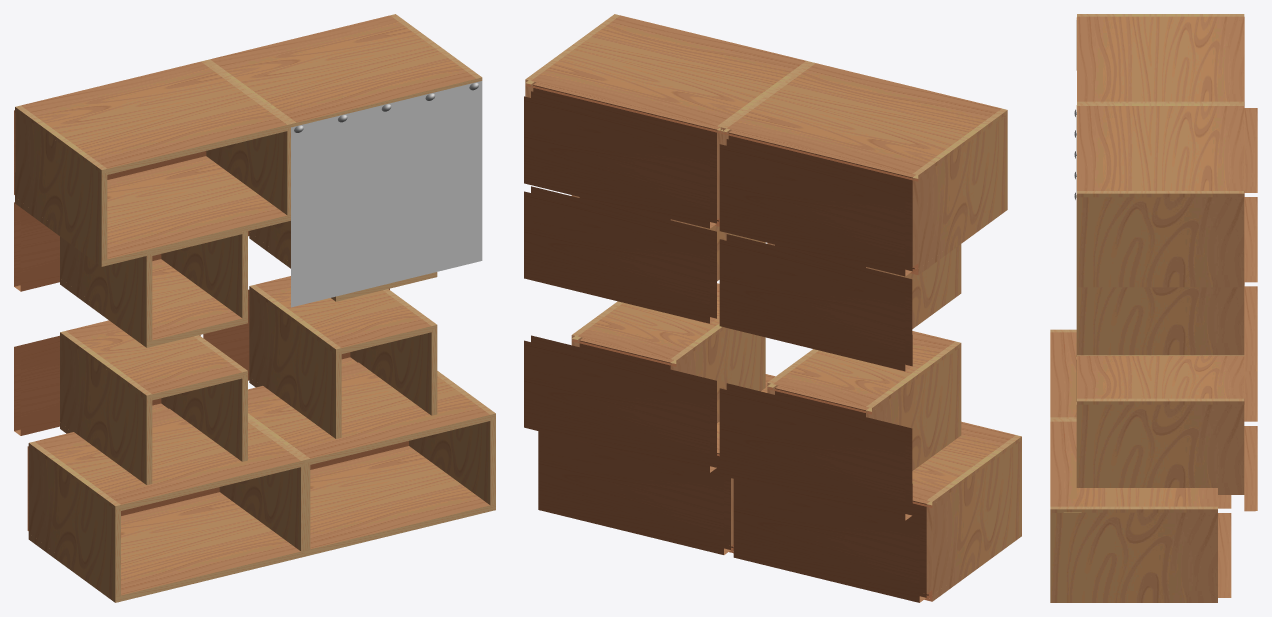
The model's file is layout_poster_0_shape_12c.fbx.
3 renders of one model, left to right at view 1: azimuth 30°, elevation 25°; view 2: azimuth 150°, elevation 25°; view 3: azimuth 270°, elevation 25°, orthographic. The views are drawn at different scales.
Parts seen in each view (by area): view 1: Mesh-Poster-Large01, Shelf-TM-00 7, Shelf-TM-00 3, Shelf-BM-00, Shelf-BM-00 4, Shelf-BM-00 7, Shelf-TM-00 4, Shelf-TM-00, Shelf-CL-01 4, Shelf-CL-01 7, Shelf-CL-01 1, Shelf-CL-01 5 (+21 smaller); view 2: Shelf-Back-00 (1) 5, Shelf-Back-00 (1) 7, Shelf-Back-00 (1) 6, Shelf-Back-00 (1) 3, Shelf-Back-00 (1) 1, Shelf-Back-00 (1) 2, Shelf-TM-00 3, Shelf-TM-00 7, Shelf-Back-00 (1) 4, Shelf-Back-00 (1), Shelf-CL-01 4, Shelf-CL-01 7 (+14 smaller); view 3: Shelf-TM-00 7, Shelf-CR-01 3, Shelf-TM-00 3, Shelf-CR-01, Shelf-CR-01 1, Shelf-CR-01 2, Shelf-TM-00 1, Shelf-TM-00, Shelf-TM-00 4, Shelf-Back-00 (1) 2, Shelf-Back-00 (1) 3, Shelf-Back-00 (1) 1 (+12 smaller).
Part boxes in pixels (bbox=[...]): Mesh-Poster-Large01: bbox=[291, 81, 482, 307]; Shelf-TM-00 7: bbox=[21, 61, 287, 174]; Shelf-TM-00 3: bbox=[210, 15, 476, 125]; Shelf-BM-00: bbox=[310, 446, 490, 555]; Shelf-BM-00 4: bbox=[121, 492, 300, 601]; Shelf-BM-00 7: bbox=[107, 156, 287, 265]; Shelf-TM-00 4: bbox=[35, 408, 300, 510]; Shelf-TM-00: bbox=[248, 362, 490, 464]; Shelf-CL-01 4: bbox=[28, 446, 120, 596]; Shelf-CL-01 7: bbox=[15, 111, 107, 260]; Shelf-CL-01 1: bbox=[249, 290, 341, 438]; Shelf-CL-01 5: bbox=[60, 336, 152, 484]; Shelf-Back-00 (1) 5: bbox=[719, 383, 912, 520]; Shelf-Back-00 (1) 7: bbox=[719, 139, 912, 276]; Shelf-Back-00 (1) 6: bbox=[719, 234, 912, 371]; Shelf-Back-00 (1) 3: bbox=[524, 91, 716, 228]; Shelf-Back-00 (1) 1: bbox=[524, 335, 716, 472]; Shelf-Back-00 (1) 2: bbox=[524, 186, 716, 323]; Shelf-TM-00 3: bbox=[531, 15, 805, 132]; Shelf-TM-00 7: bbox=[727, 63, 1001, 180]; Shelf-Back-00 (1) 4: bbox=[733, 479, 926, 602]; Shelf-Back-00 (1): bbox=[538, 431, 730, 554]; Shelf-CL-01 4: bbox=[926, 440, 1021, 595]; Shelf-CL-01 7: bbox=[912, 114, 1007, 268]; Shelf-TM-00 7: bbox=[1077, 16, 1244, 105]; Shelf-CR-01 3: bbox=[1076, 195, 1244, 281]; Shelf-TM-00 3: bbox=[1077, 106, 1244, 196]; Shelf-CR-01: bbox=[1050, 512, 1217, 596]; Shelf-CR-01 1: bbox=[1076, 402, 1244, 488]; Shelf-CR-01 2: bbox=[1076, 281, 1244, 349]; Shelf-TM-00 1: bbox=[1077, 356, 1244, 404]; Shelf-TM-00: bbox=[1050, 421, 1217, 506]; Shelf-TM-00 4: bbox=[1050, 332, 1076, 417]; Shelf-Back-00 (1) 2: bbox=[1244, 286, 1257, 371]; Shelf-Back-00 (1) 3: bbox=[1244, 197, 1257, 282]; Shelf-Back-00 (1) 1: bbox=[1244, 426, 1257, 511].
Bounding box in the file's own units: 203 × 215 × 98.92.
